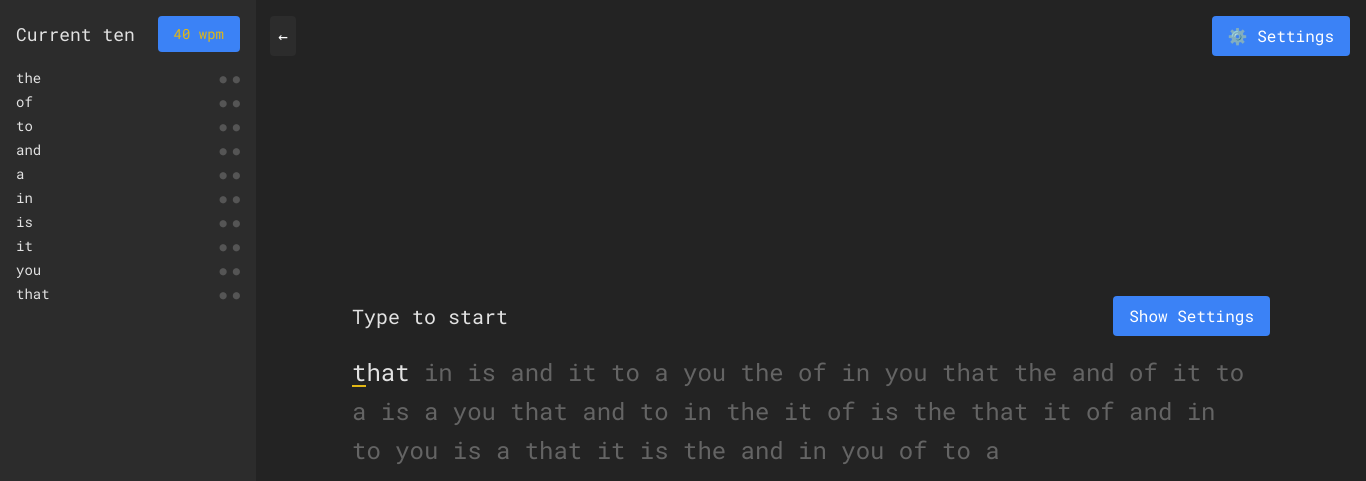
Test: WPM target editor in TypingTest › Sidebar displays updated WPM target immediately after change
Click the button "40 wpm" at [199, 34], box [158, 16, 240, 52]
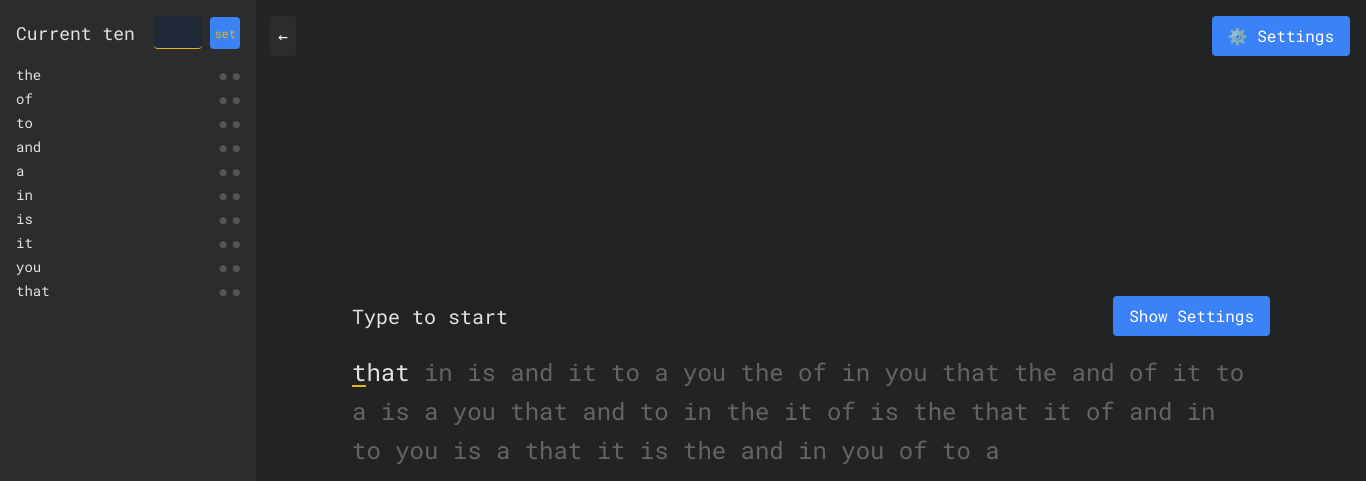
Type "90" into the number field at [178, 32], box [154, 16, 202, 49]
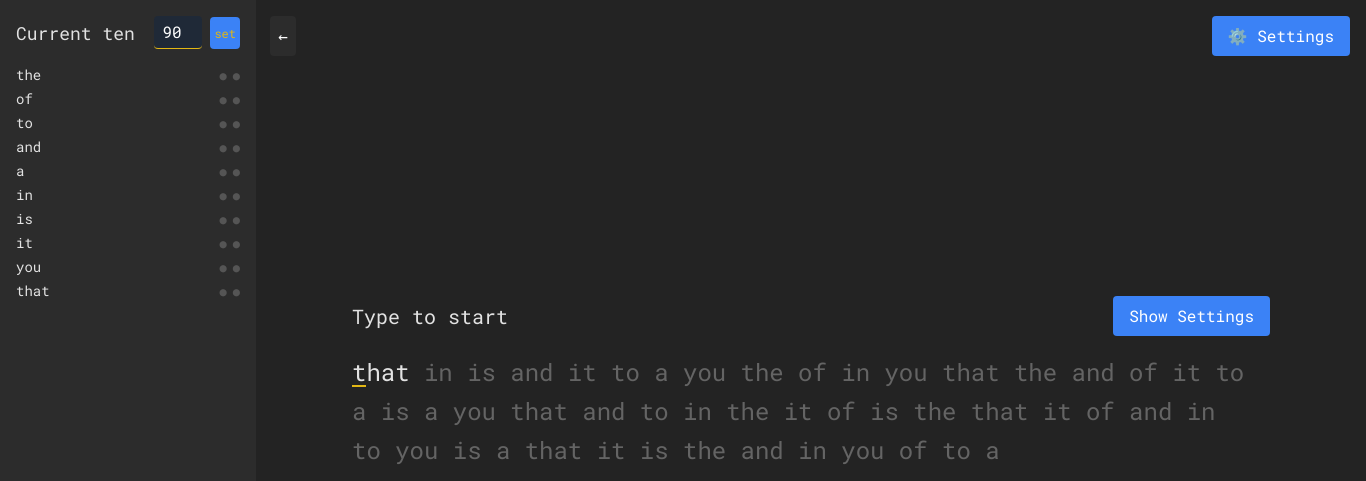
Click the button "set" at [225, 32], box [210, 16, 240, 48]
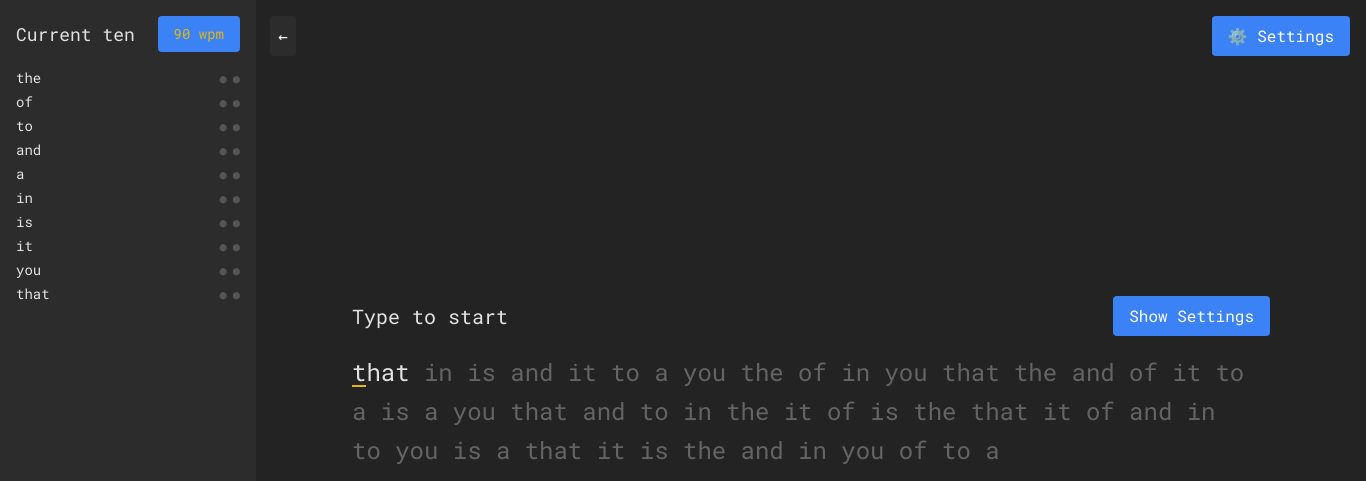
Now the button "90 wpm" is shown, box [158, 16, 240, 52]
